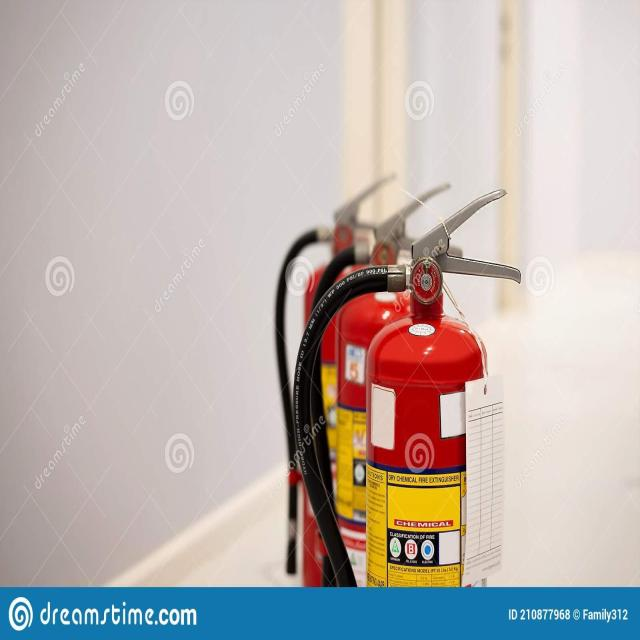fire_extinguisher: (289, 185, 525, 589), (304, 179, 466, 588), (270, 168, 417, 580)
